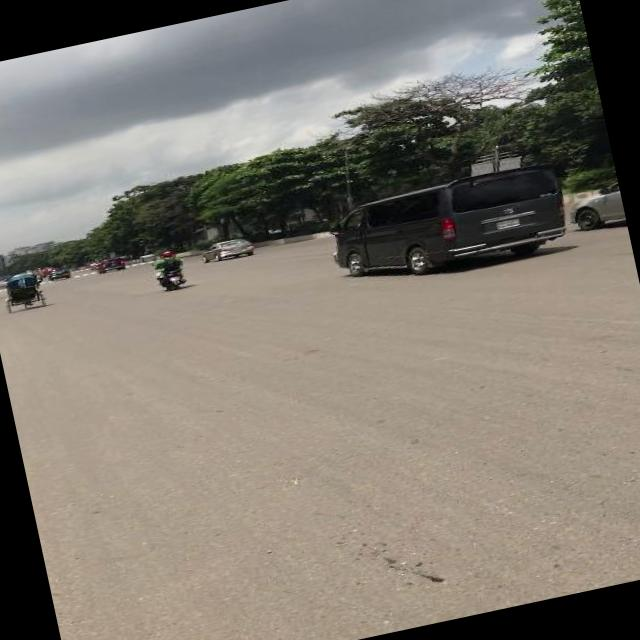car: (195, 234, 255, 264), (94, 254, 125, 274), (46, 264, 70, 282)
motorcycle: (0, 267, 46, 315), (146, 248, 188, 294)
truck: (320, 156, 572, 294)
